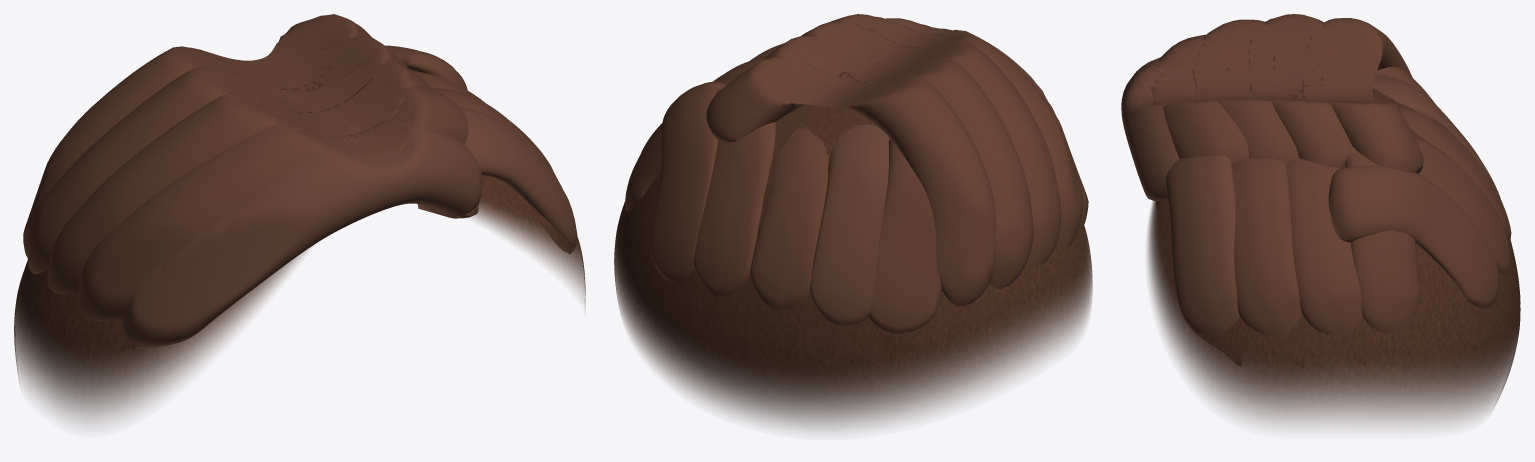
File: Masculine-taper-cowboy252-hair.glb
3 renders of one model, left to right at view 1: azimuth 30°, elevation 25°; view 2: azimuth 150°, elevation 25°; view 3: azimuth 270°, elevation 25°, orthographic. The views are drawn at different scales.
Visible parts, largest first — view 1: 226 hair / Hair252 / sculpted locks.001, 226 hair / Hair252 / gentle tonal variation.001, 226 hair / Hair252 / restored153 fade coverage.001; view 2: 226 hair / Hair252 / sculpted locks.001, 226 hair / Hair252 / restored153 fade coverage.001, 226 hair / Hair252 / gentle tonal variation.001; view 3: 226 hair / Hair252 / sculpted locks.001, 226 hair / Hair252 / restored153 fade coverage.001, 226 hair / Hair252 / gentle tonal variation.001.
Boxes of the visible parts, <box> form: 226 hair / Hair252 / sculpted locks.001: <box>23,14,557,321</box>; 226 hair / Hair252 / gentle tonal variation.001: <box>122,107,577,345</box>; 226 hair / Hair252 / restored153 fade coverage.001: <box>14,82,585,422</box>; 226 hair / Hair252 / sculpted locks.001: <box>625,14,1083,333</box>; 226 hair / Hair252 / restored153 fade coverage.001: <box>614,70,1092,430</box>; 226 hair / Hair252 / gentle tonal variation.001: <box>750,18,1088,326</box>; 226 hair / Hair252 / sculpted locks.001: <box>1150,14,1511,335</box>; 226 hair / Hair252 / restored153 fade coverage.001: <box>1147,85,1520,425</box>; 226 hair / Hair252 / gentle tonal variation.001: <box>1121,57,1500,334</box>.
Bounding box in the file's own units: 0.976 × 0.7079 × 0.7562.
3 materials, 1 textured.
